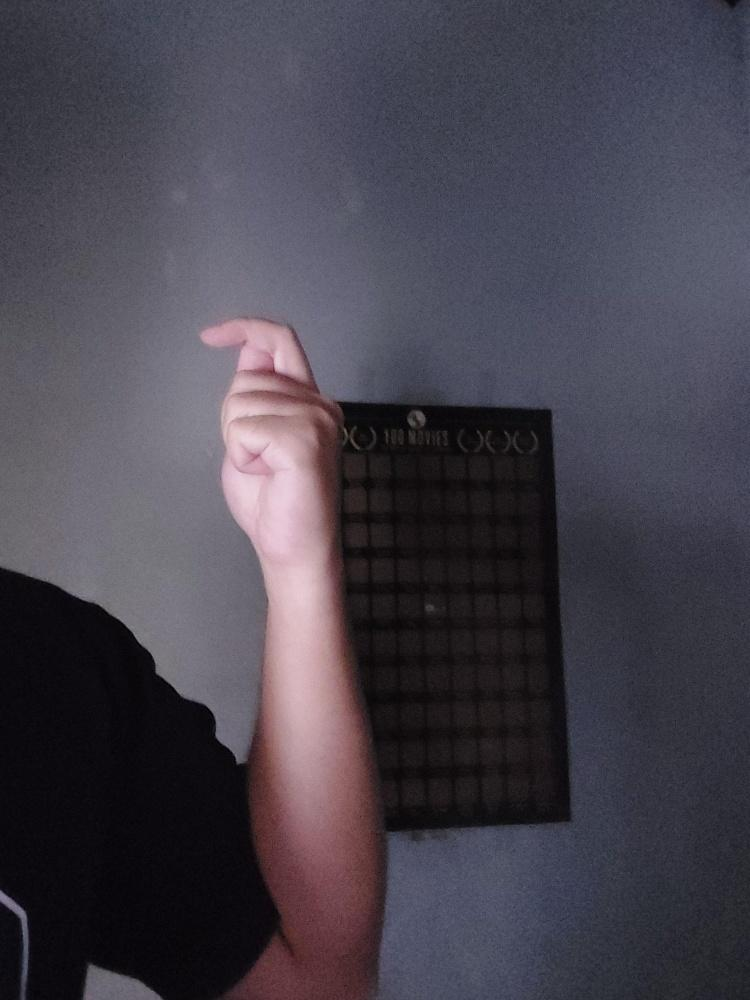t: (198, 316, 344, 583)
